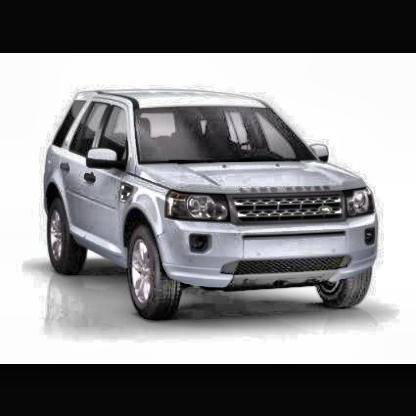Land Rover LR2 SUV 2012: (42, 86, 382, 323)
